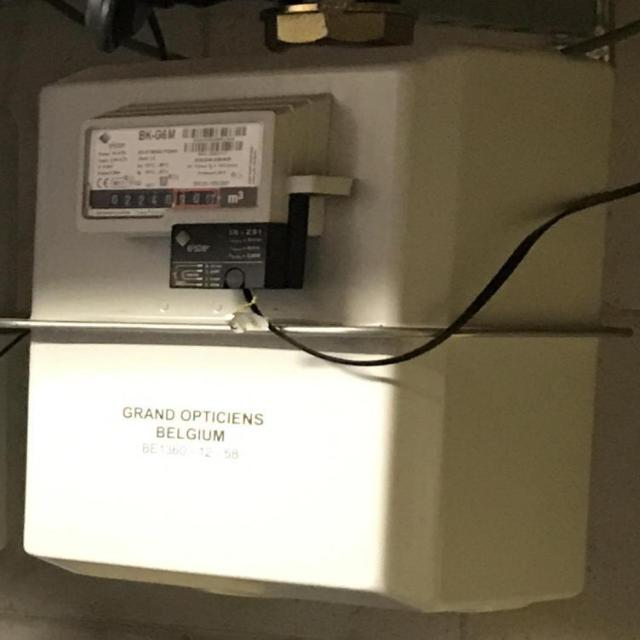gaz_meter: (87, 129, 262, 207)
indication: (101, 187, 222, 208)
